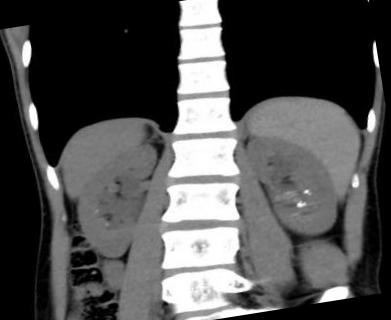Tas_Var: (300, 186, 310, 194), (102, 220, 110, 228), (294, 202, 304, 208), (92, 208, 101, 214), (305, 192, 312, 196), (302, 201, 306, 205), (297, 200, 301, 203)
